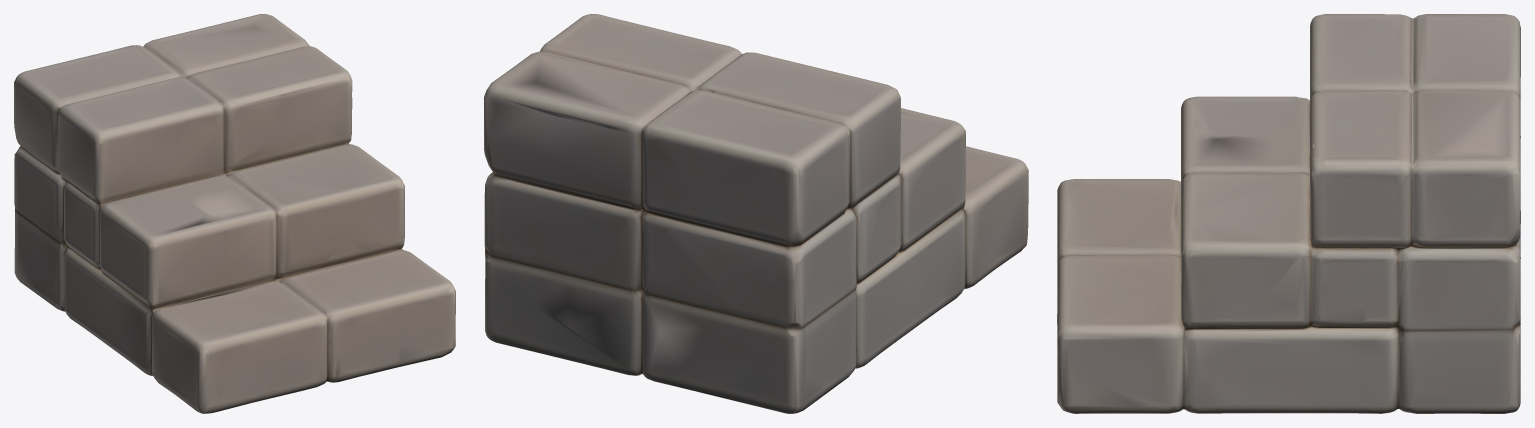
File: stairs.glb
3 views of the same model, side by side, from view 1: azimuth 30°, elevation 25°; view 2: azimuth 150°, elevation 25°; view 3: azimuth 270°, elevation 25° (orthographic). The views are drawn at different scales.
Parts seen in each view (by area): view 1: node_0; view 2: node_0; view 3: node_0.
Part boxes in pixels (x1=…): node_0: x1=14, y1=14, x2=455, y2=413; node_0: x1=484, y1=14, x2=1028, y2=413; node_0: x1=1057, y1=14, x2=1520, y2=413.
Bounding box in the file's own units: 0.6832 × 0.5273 × 0.8746.
1 material, 1 textured.
